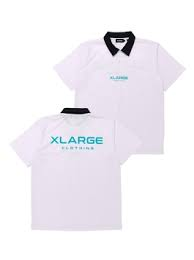C_polo shirt: (64, 34, 181, 155)
